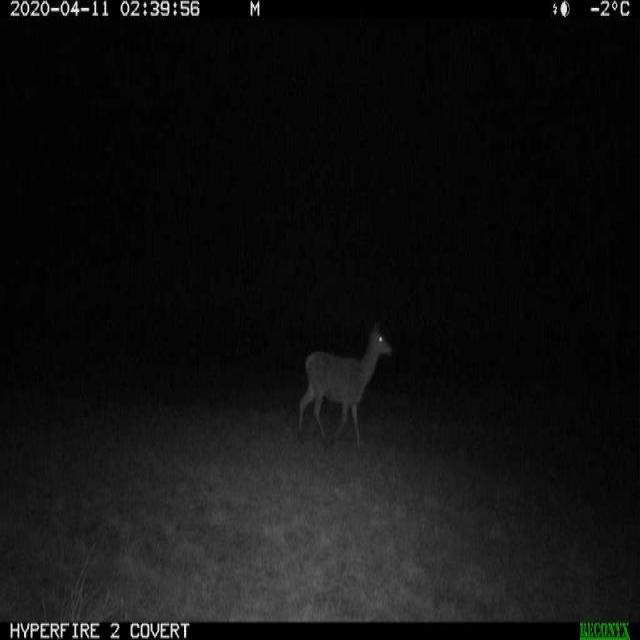deer: (294, 311, 398, 460)
